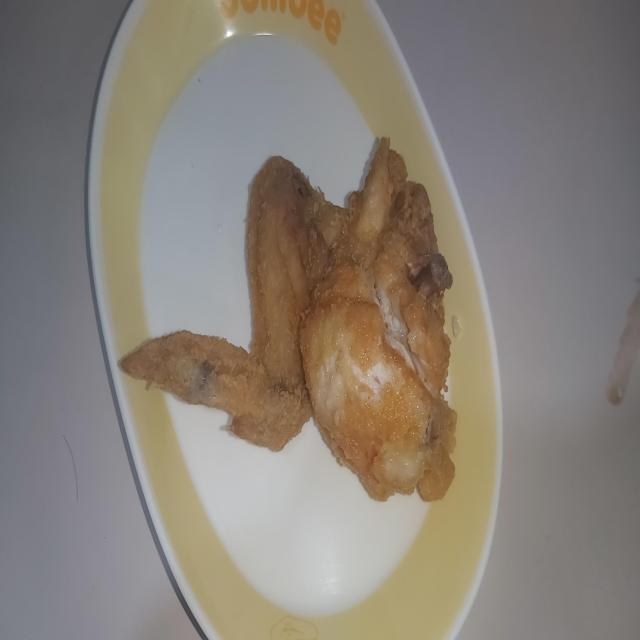Chicken -Fried Chicken-: (144, 130, 496, 520)
